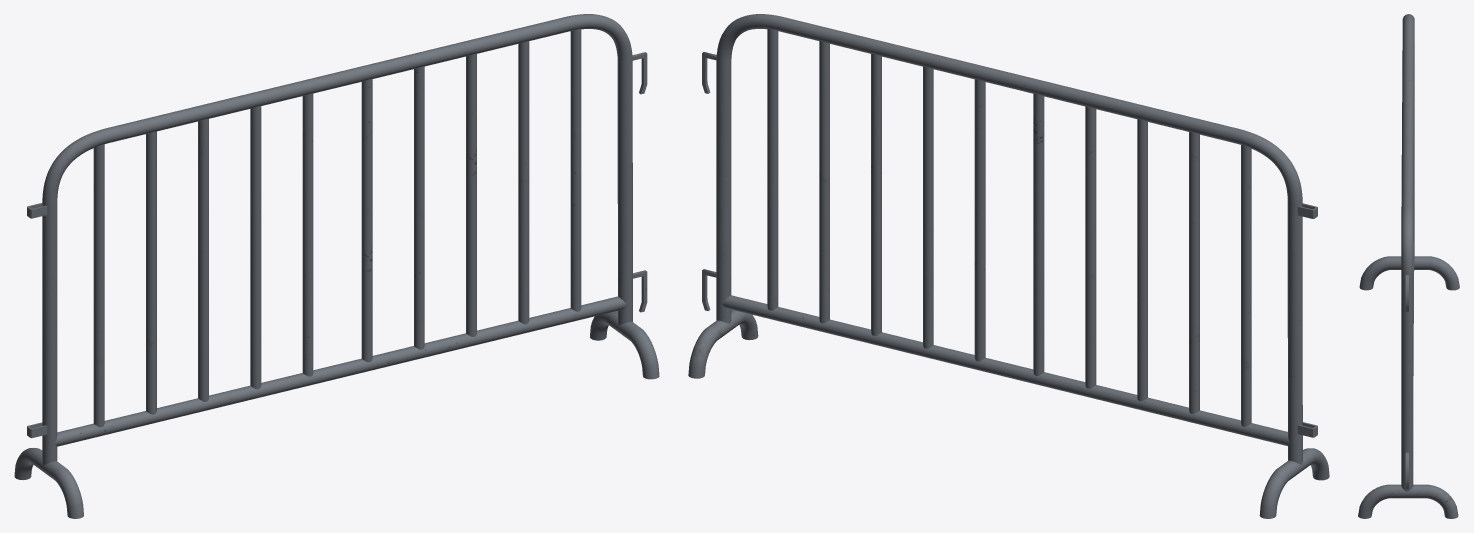
The model's file is PropBarrier.fbx.
3 views of the same model, side by side, from view 1: azimuth 30°, elevation 25°; view 2: azimuth 150°, elevation 25°; view 3: azimuth 270°, elevation 25° (orthographic). The views are drawn at different scales.
Parts seen in each view (by area): view 1: PropBarrier_A_LOD_0; view 2: PropBarrier_A_LOD_0; view 3: PropBarrier_A_LOD_0.
Boxes of the visible parts, x1=… form: PropBarrier_A_LOD_0: x1=14, y1=14, x2=659, y2=518; PropBarrier_A_LOD_0: x1=688, y1=14, x2=1329, y2=518; PropBarrier_A_LOD_0: x1=1358, y1=14, x2=1459, y2=518.
Size of what is drawn, in the model's own units: 208 by 114 by 36.46.
